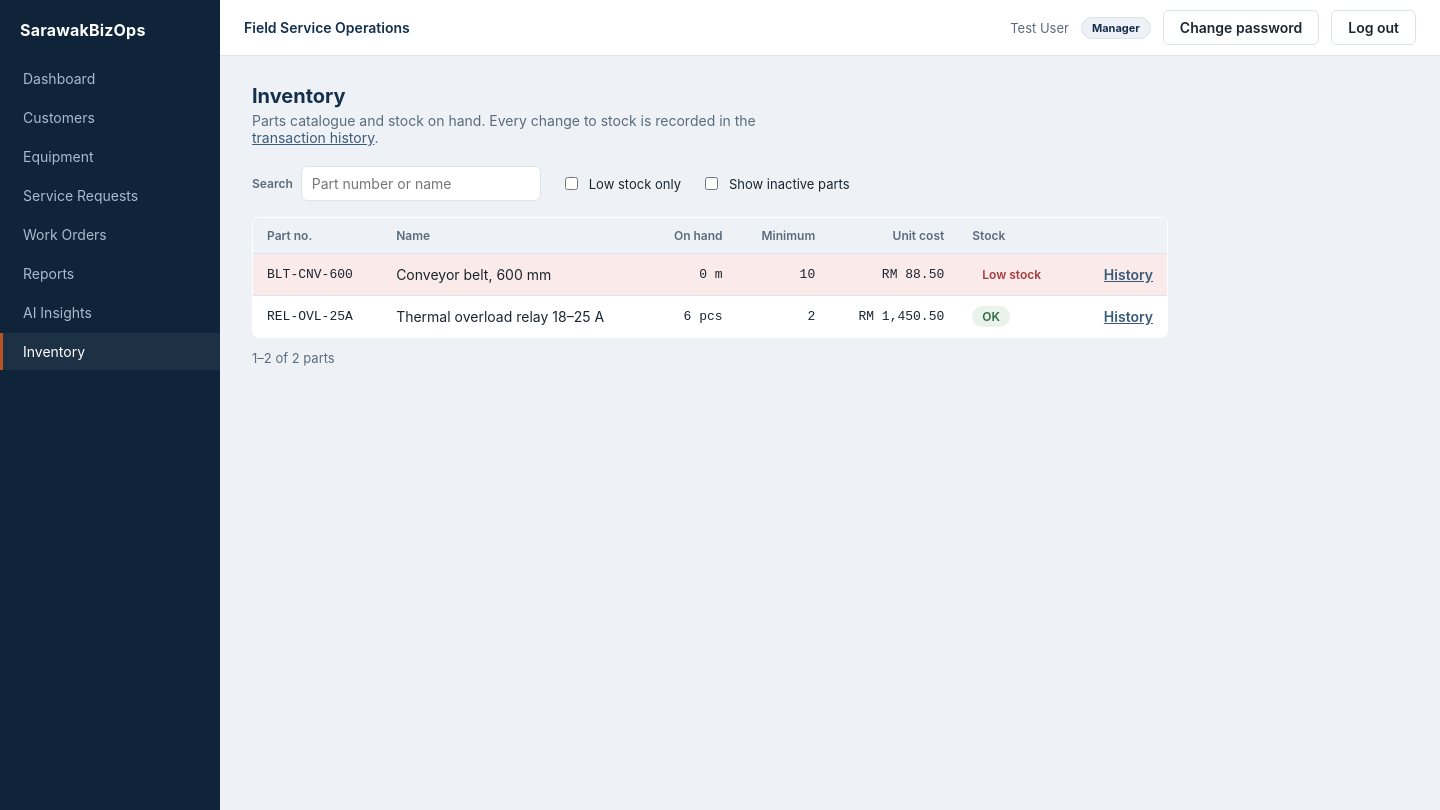
Test: Inventory list › switches to the low-stock endpoint when "Low stock only" is ticked
The width and height of the screenshot is (1440, 810).
Expected: the text "REL-OVL-25A" is shown, [252, 296, 382, 338]
Click the checkbox labelled "Low stock only" at [571, 184], box [565, 177, 578, 190]
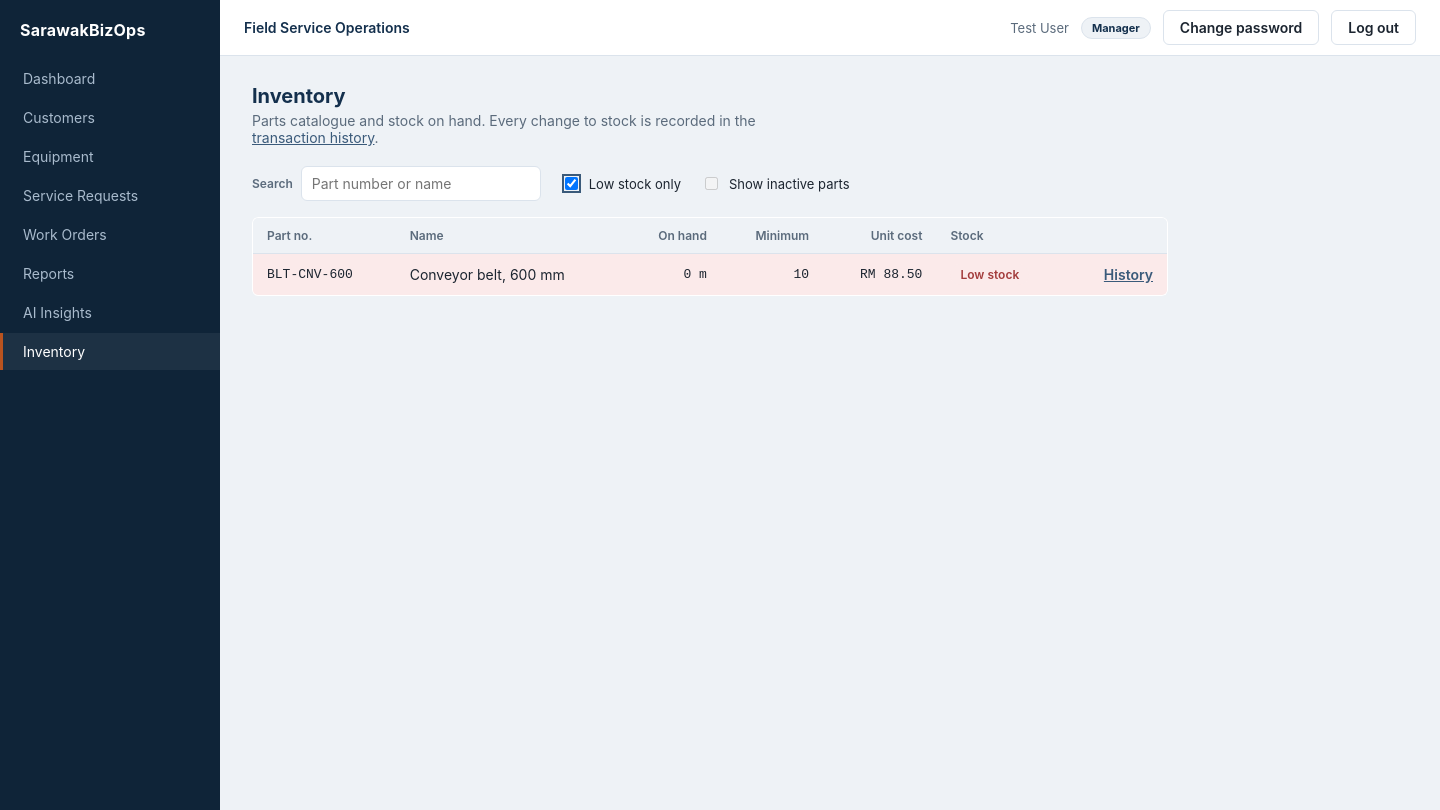
Expected: the text "BLT-CNV-600" is shown, [252, 254, 396, 296]
Expected: the text "REL-OVL-25A" is gone
